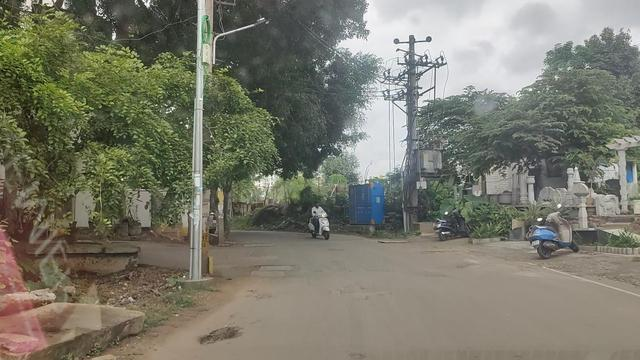LMV: (309, 202, 330, 238)
RoadDamages: (198, 323, 242, 347), (246, 261, 296, 282)
